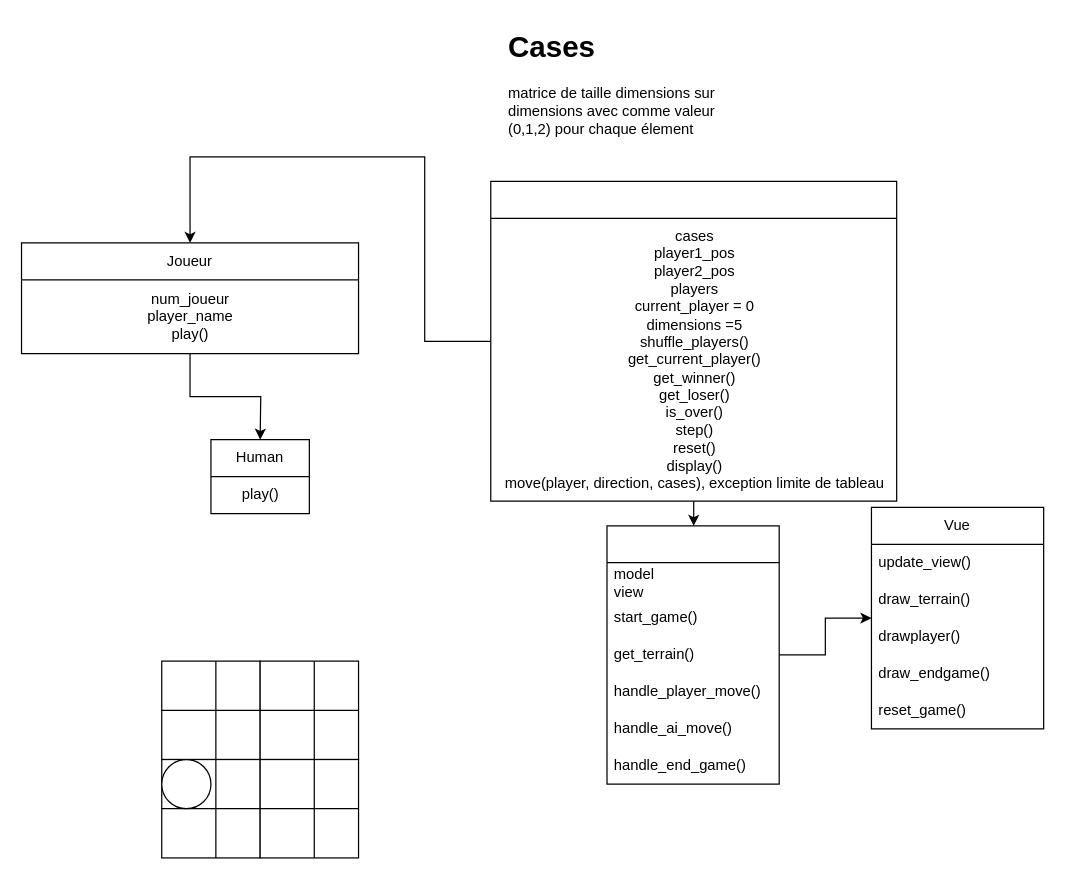
The diagram is 1065 pixels wide and 879 high, and some of its shapes have lost their labels. Each missing label, with the box of its shape:
Controller: (606, 525, 779, 784)
Model: (490, 180, 897, 501)
